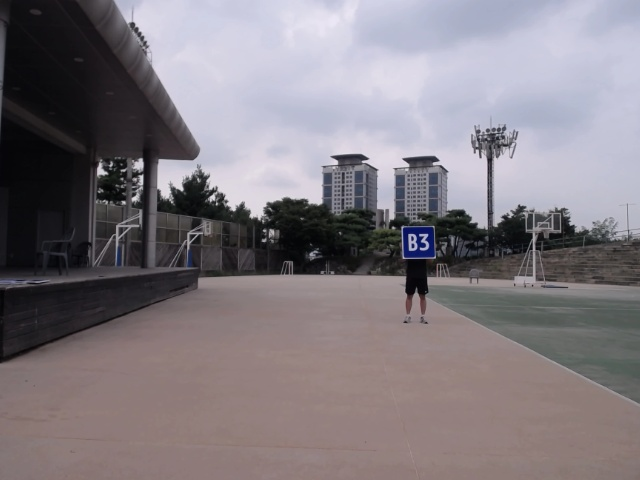delivery_b3: (401, 225, 438, 261)
